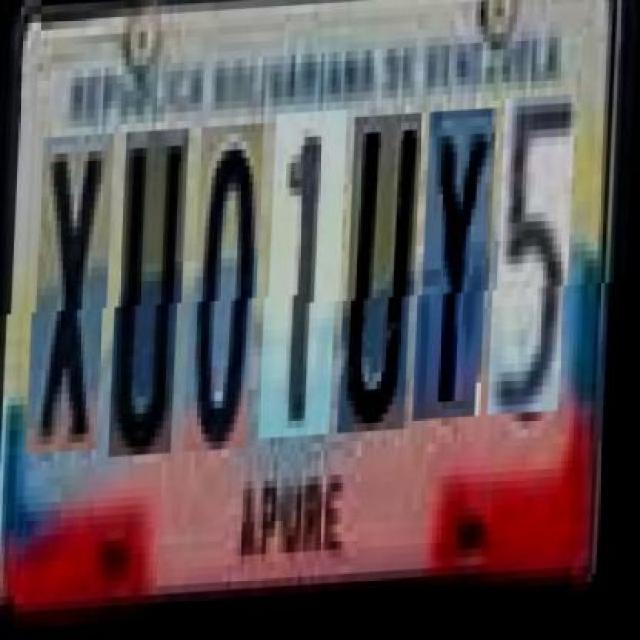1: (266, 115, 349, 442)
5: (494, 102, 578, 422)
o: (192, 127, 266, 455)
u: (345, 119, 424, 438), (117, 132, 191, 459)
x: (33, 134, 116, 454)
y: (420, 116, 498, 427)
